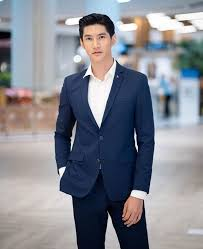asian_male: (77, 12, 118, 59)
